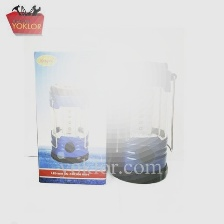book: (28, 43, 112, 192)
